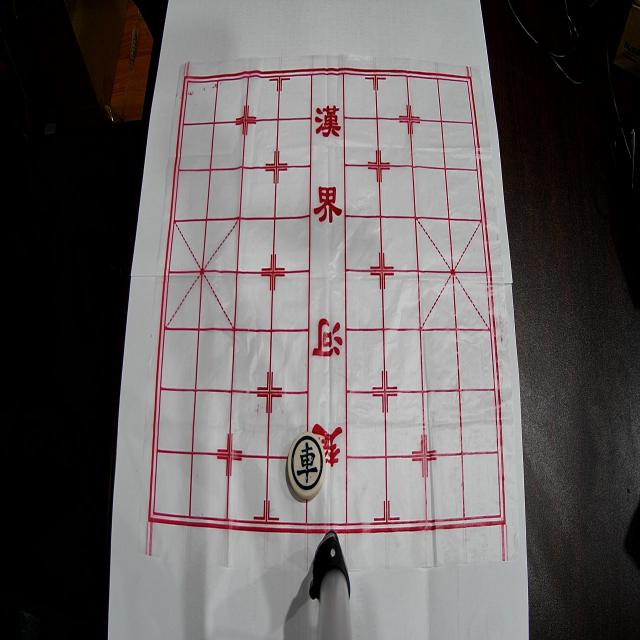black-chariot: (288, 432, 326, 499)
